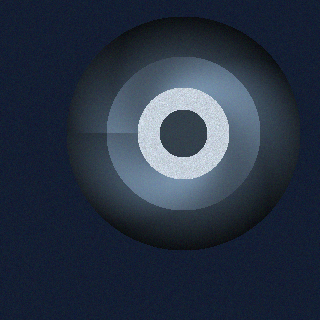cyclone_body: (102, 52, 264, 214)
cyclone_eye: (157, 107, 209, 159)
